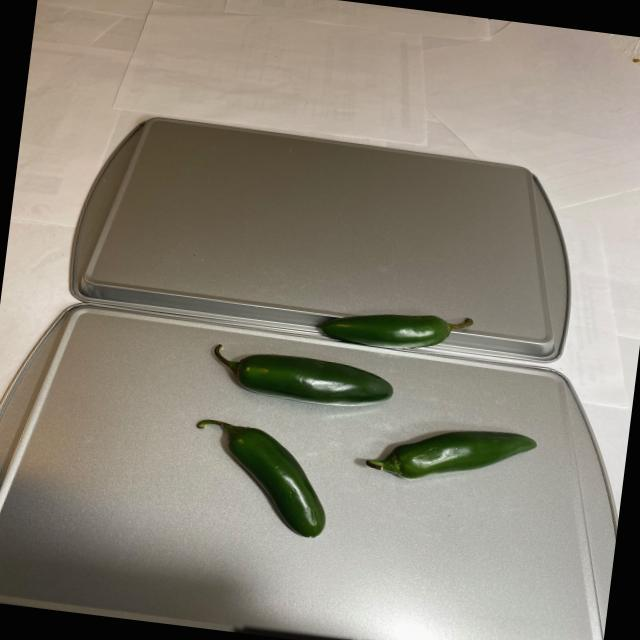chilli: (170, 282, 551, 565)
